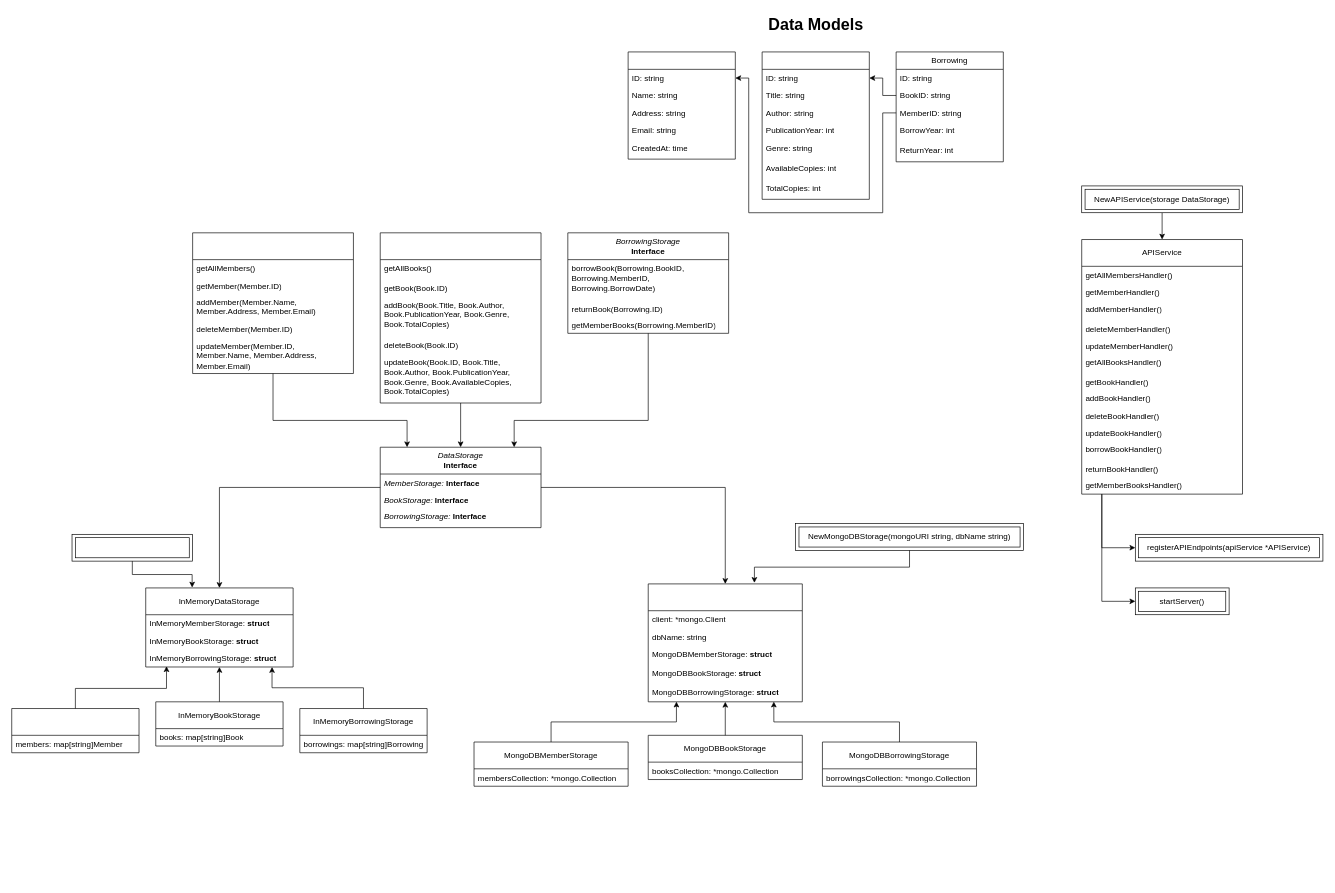
The diagram is 1335 pixels wide and 893 high, and some of its shapes have lost their labels. The shapes that lost their labels are listed below. From the top down, each one's box as (x1, y1, x2, y2) in pixels, then its label:
(627, 51, 735, 159): Member
(761, 51, 869, 199): Book
(192, 232, 353, 374): MemberStorage Interface
(380, 232, 541, 403): BookStorage Interface
(71, 534, 193, 561): NewInMemoryDataStorage()
(648, 583, 802, 702): MongoDBDataStorage
(11, 708, 139, 753): InMemoryMemberStorage
